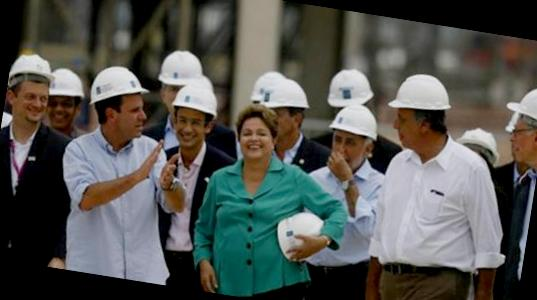no_helmet: (229, 103, 286, 168)
